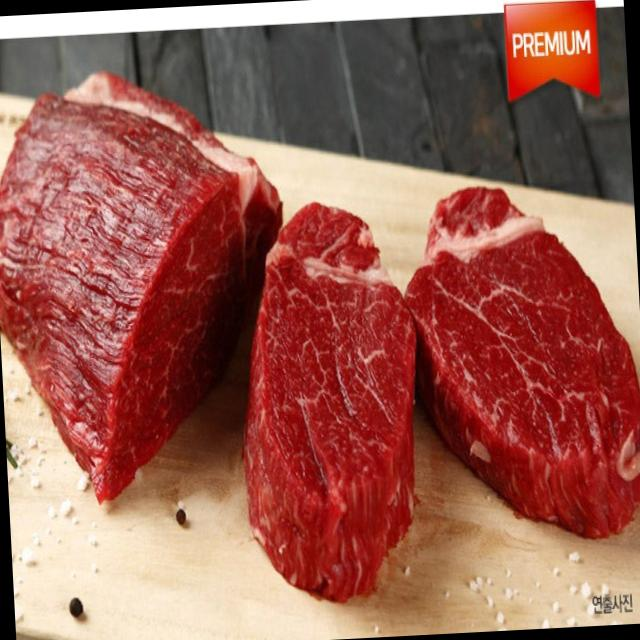beef: (28, 110, 205, 388), (269, 240, 396, 522), (444, 235, 588, 466)
